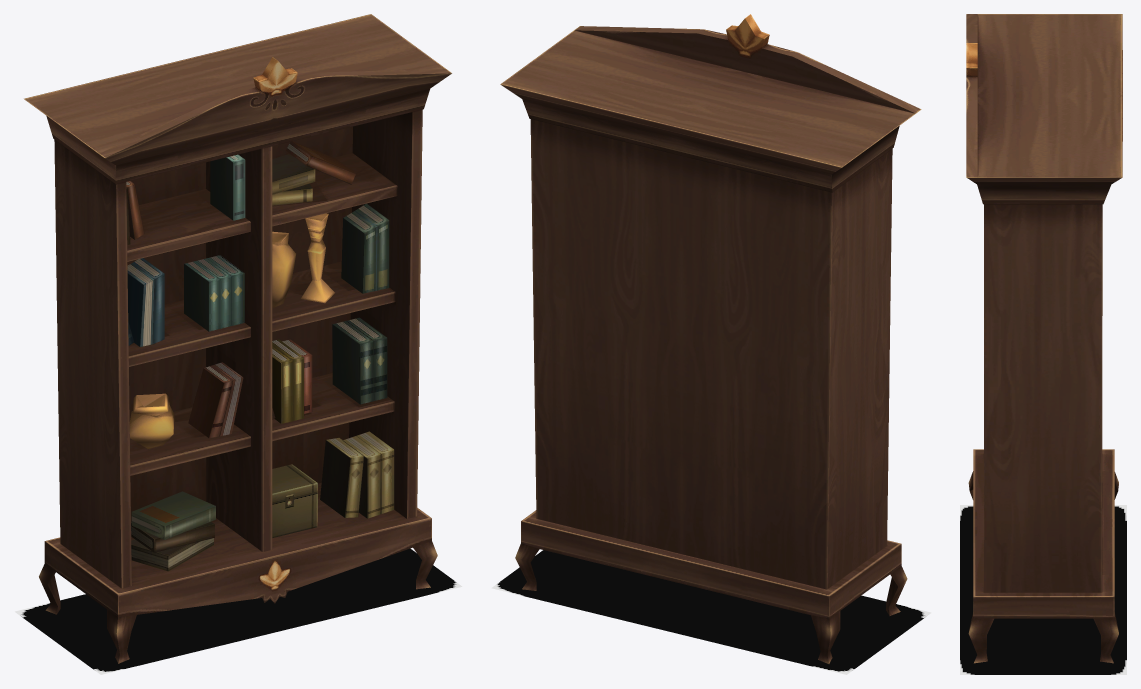
The model's file is jj_ty_guizi03.FBX.
3 renders of one model, left to right at view 1: azimuth 30°, elevation 25°; view 2: azimuth 150°, elevation 25°; view 3: azimuth 270°, elevation 25°, orthographic. The views are drawn at different scales.
Parts seen in each view (by area): view 1: jj_ty_guizi03, shadow; view 2: jj_ty_guizi03, shadow; view 3: jj_ty_guizi03, shadow.
Part boxes in pixels (x1=…): jj_ty_guizi03: x1=24, y1=14, x2=451, y2=663; shadow: x1=15, y1=548, x2=462, y2=674; jj_ty_guizi03: x1=500, y1=14, x2=921, y2=663; shadow: x1=491, y1=550, x2=931, y2=674; jj_ty_guizi03: x1=966, y1=14, x2=1122, y2=663; shadow: x1=960, y1=505, x2=1126, y2=674.
Size of the model in its own units: 160 by 241 by 66.36.
